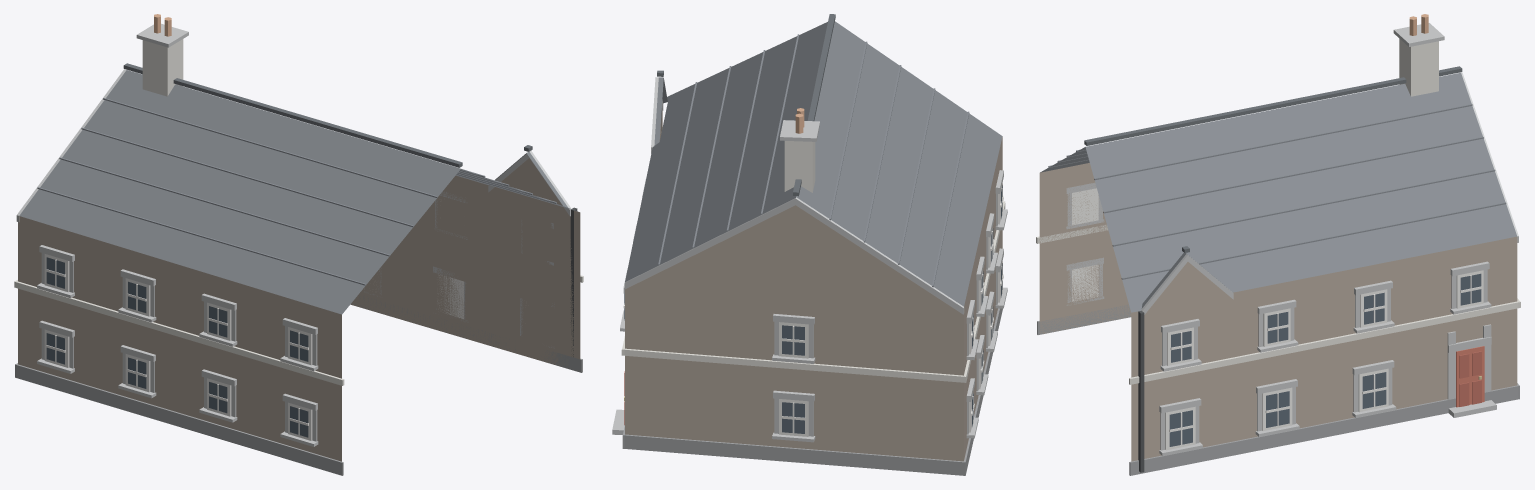
3 renders of one model, left to right at view 1: azimuth 30°, elevation 25°; view 2: azimuth 150°, elevation 25°; view 3: azimuth 270°, elevation 25°, orthographic. The views are drawn at different scales.
Parts seen in each view (by area): view 1: harl_brown, slate, stone_band, plinth, frame, slate_lt, string, slate_dk, chim_render; view 2: harl_brown, slate, stone_band, plinth, slate_lt, string, frame, chim_render, slate_dk, window_glass_008, window_glass_009; view 3: slate, harl_brown, stone_band, plinth, frame, slate_lt, string, slate_dk, chim_render, pipe, door_red_p, door_red (+7 smaller).
Part boxes in pixels (x1,y1,x2,y2): harl_brown: [18, 158, 580, 461]; slate: [19, 70, 577, 314]; stone_band: [16, 23, 571, 446]; plinth: [15, 295, 582, 475]; frame: [44, 201, 463, 440]; slate_lt: [37, 98, 556, 285]; string: [14, 275, 583, 385]; slate_dk: [123, 63, 532, 167]; chim_render: [142, 39, 183, 96]; harl_brown: [625, 110, 1002, 461]; slate: [625, 21, 1002, 306]; stone_band: [612, 77, 1007, 442]; plinth: [622, 308, 1002, 475]; slate_lt: [658, 34, 969, 287]; string: [621, 201, 1005, 382]; frame: [623, 185, 1003, 436]; chim_render: [784, 141, 815, 192]; slate_dk: [657, 14, 835, 196]; window_glass_008: [782, 402, 804, 433]; window_glass_009: [782, 325, 804, 355]; slate: [1040, 72, 1517, 312]; harl_brown: [1039, 163, 1517, 461]; stone_band: [1066, 23, 1518, 455]; plinth: [1037, 304, 1519, 475]; frame: [1072, 188, 1483, 450]; slate_lt: [1048, 104, 1506, 279]; string: [1036, 225, 1520, 384]; slate_dk: [1084, 66, 1462, 252]; chim_render: [1399, 39, 1438, 96]; pipe: [1138, 310, 1144, 472]; door_red_p: [1459, 351, 1481, 406]; door_red: [1456, 346, 1484, 407].
Bounding box in the file's own units: 15.55 × 10.92 × 14.9.
